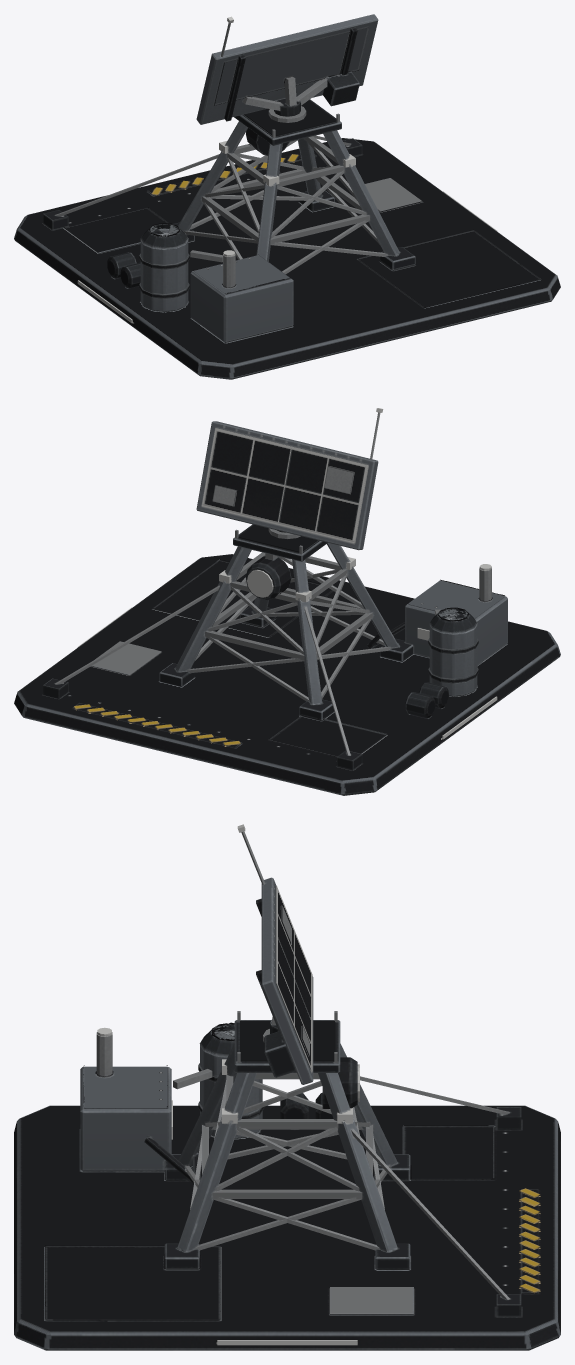
The model's file is chs_augur.fbx.
The picture shows the model from 3 angles, top to bottom: view 1: azimuth 30°, elevation 25°; view 2: azimuth 150°, elevation 25°; view 3: azimuth 270°, elevation 25°; orthographic projection. The views are drawn at different scales.
Parts seen in each view (by area): view 1: base_bar, dish_bar, base_glow_running_bar; view 2: base_bar, dish_bar, dish_glow_running_bar, base_glow_running_bar; view 3: base_bar, dish_bar, base_glow_running_bar, dish_glow_running_bar.
Boxes of the visible parts, x1=… form: base_bar: x1=14, y1=99, x2=560, y2=379; dish_bar: x1=196, y1=14, x2=378, y2=124; base_glow_running_bar: x1=77, y1=140, x2=497, y2=323; base_bar: x1=14, y1=524, x2=560, y2=795; dish_bar: x1=196, y1=412, x2=380, y2=550; dish_glow_running_bar: x1=201, y1=408, x2=383, y2=543; base_glow_running_bar: x1=77, y1=557, x2=497, y2=739; base_bar: x1=14, y1=1011, x2=560, y2=1350; dish_bar: x1=241, y1=831, x2=313, y2=1084; base_glow_running_bar: x1=217, y1=1059, x2=359, y2=1345; dish_glow_running_bar: x1=237, y1=824, x2=312, y2=1071.
Size of the model in its own units: 1569 by 1340 by 1557.
2 materials, 2 textured.
